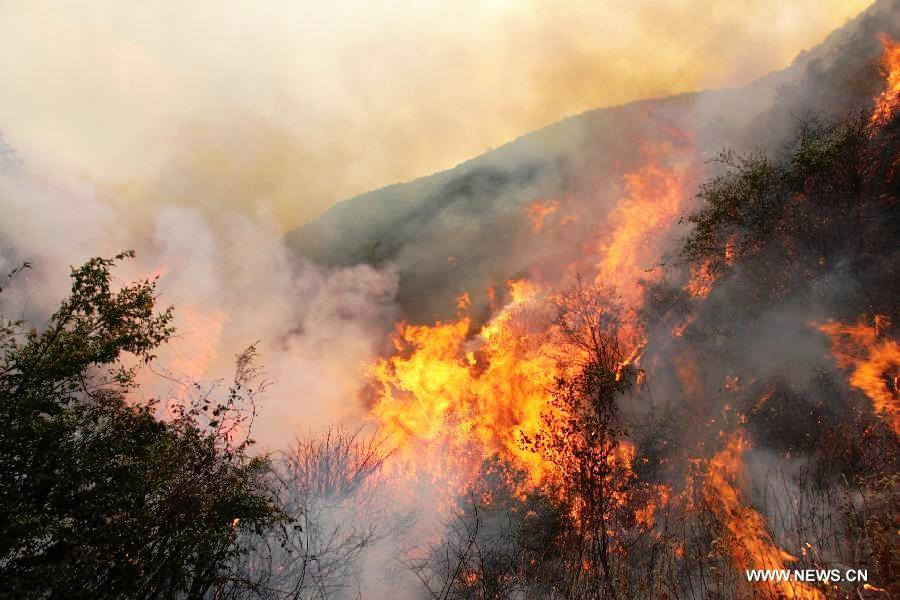fire: (251, 166, 900, 599)
